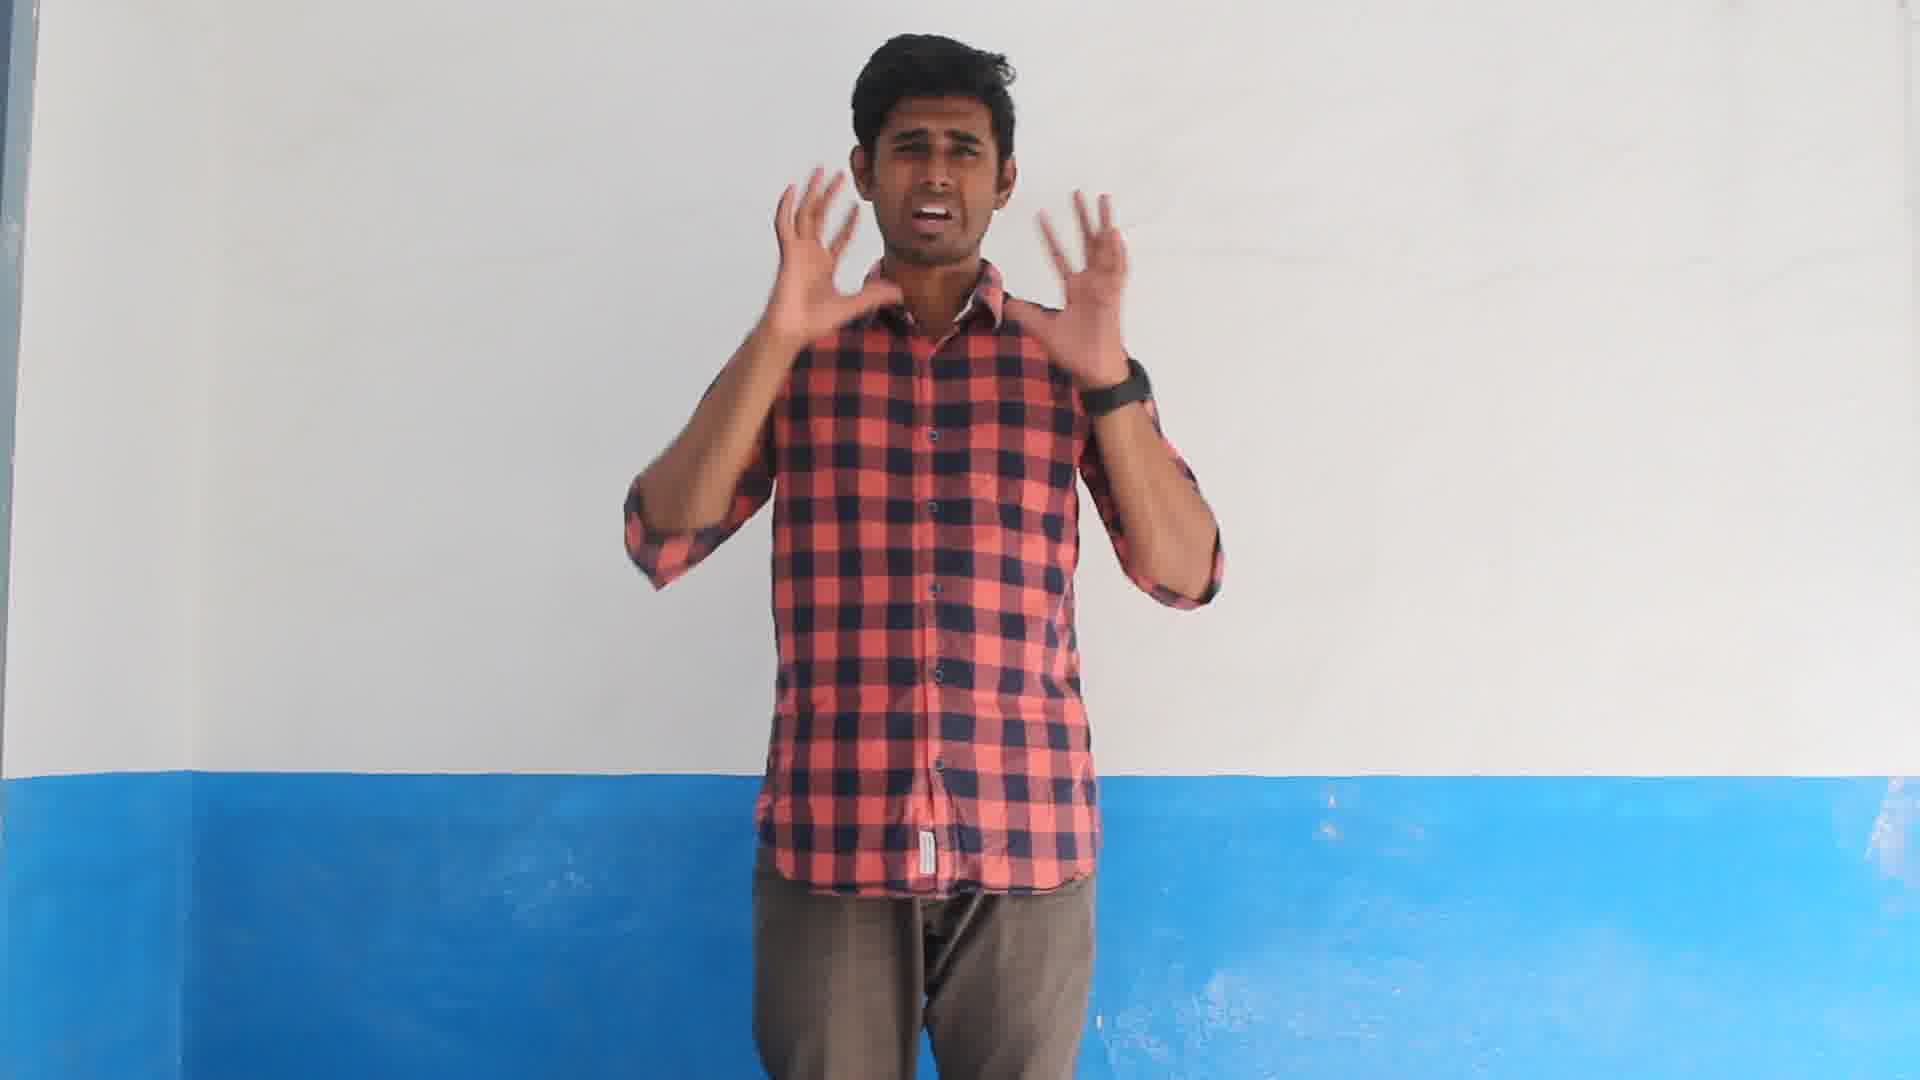loud: (715, 138, 1172, 417)
